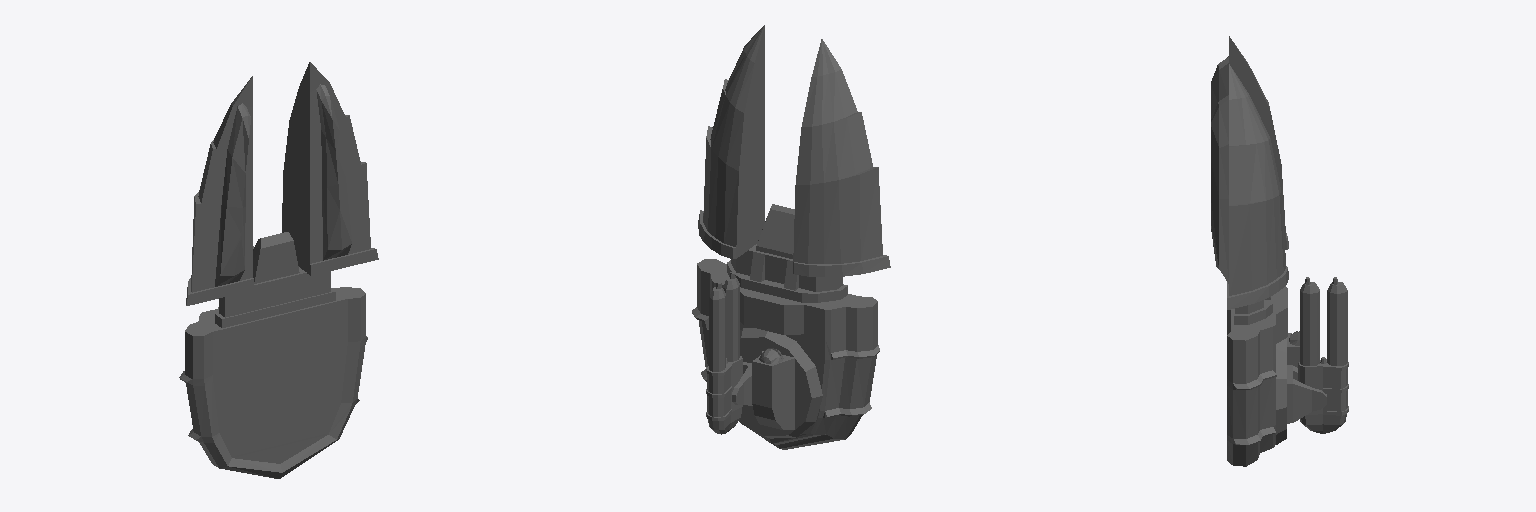
Rendered from CL_Hephaestus.obj.
3 renders of one model, left to right at view 1: azimuth 30°, elevation 25°; view 2: azimuth 150°, elevation 25°; view 3: azimuth 270°, elevation 25°, orthographic.
Parts seen in each view (by area): view 1: body, floatl, floatl01; view 2: body, floatl01, floatl, turret, guns; view 3: floatl, body, guns, turret, floatl01.
Part boxes in pixels (left/top/right/bottom): body: left=179, top=232, right=367, bottom=478; floatl: left=282, top=62, right=378, bottom=275; floatl01: left=186, top=76, right=253, bottom=305; body: left=692, top=204, right=879, bottom=449; floatl01: left=793, top=39, right=890, bottom=276; floatl: left=698, top=25, right=764, bottom=258; turret: left=732, top=328, right=822, bottom=438; guns: left=706, top=272, right=742, bottom=434; floatl: left=1211, top=64, right=1288, bottom=309; body: left=1227, top=286, right=1287, bottom=466; guns: left=1298, top=277, right=1348, bottom=433; turret: left=1276, top=331, right=1326, bottom=444; floatl01: left=1211, top=36, right=1288, bottom=249.
Size of the model in its own units: 16.9 by 34.63 by 10.57.